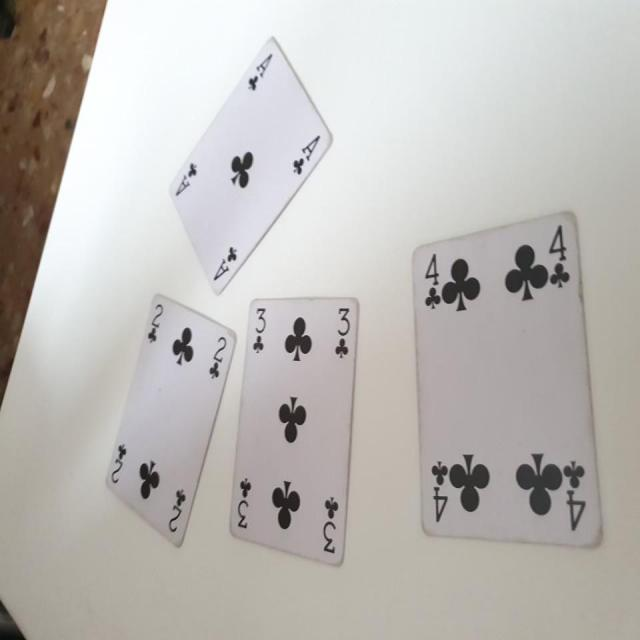2 Trefoils: (104, 293, 236, 546)
3 Trefoils: (228, 297, 360, 566)
4 Trefoils: (411, 211, 605, 551)
A Trefoils: (168, 37, 332, 296)
